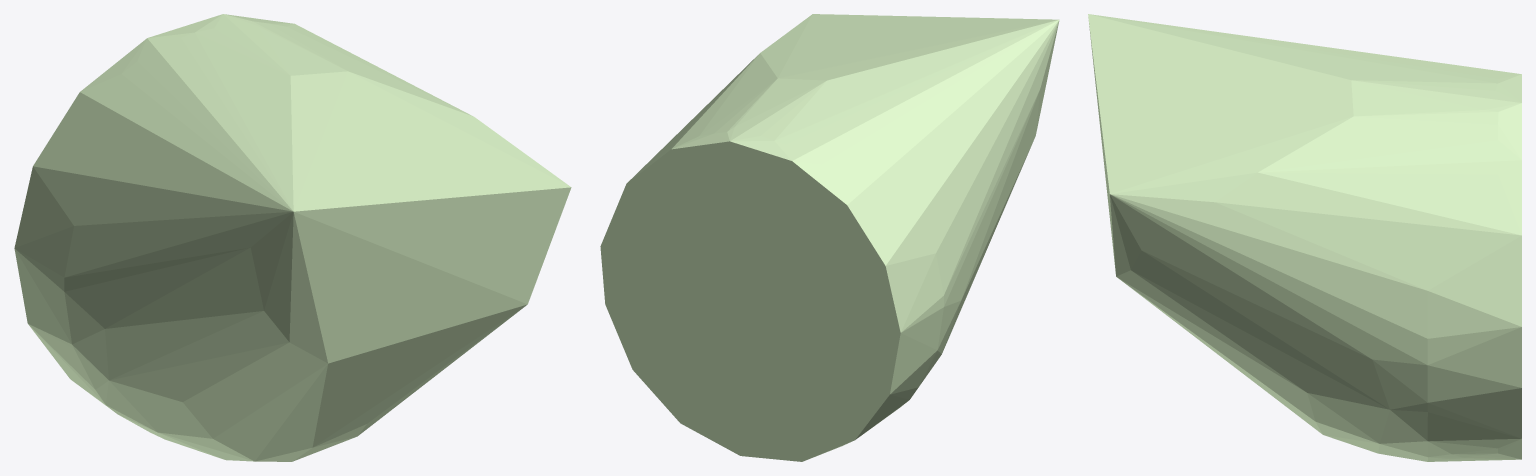
The model's file is iiwa_link4_resp_coll_1.obj.
3 views of the same model, side by side, from view 1: azimuth 30°, elevation 25°; view 2: azimuth 150°, elevation 25°; view 3: azimuth 270°, elevation 25° (orthographic). The views are drawn at different scales.
Parts seen in each view (by area): view 1: node; view 2: node; view 3: node.
Part boxes in pixels (box(x1,y1,x2,y2)): node: box(14, 14, 571, 461); node: box(600, 14, 1059, 461); node: box(1088, 14, 1521, 461).
Bounding box in the file's own units: 0.137 × 0.141 × 0.152.
